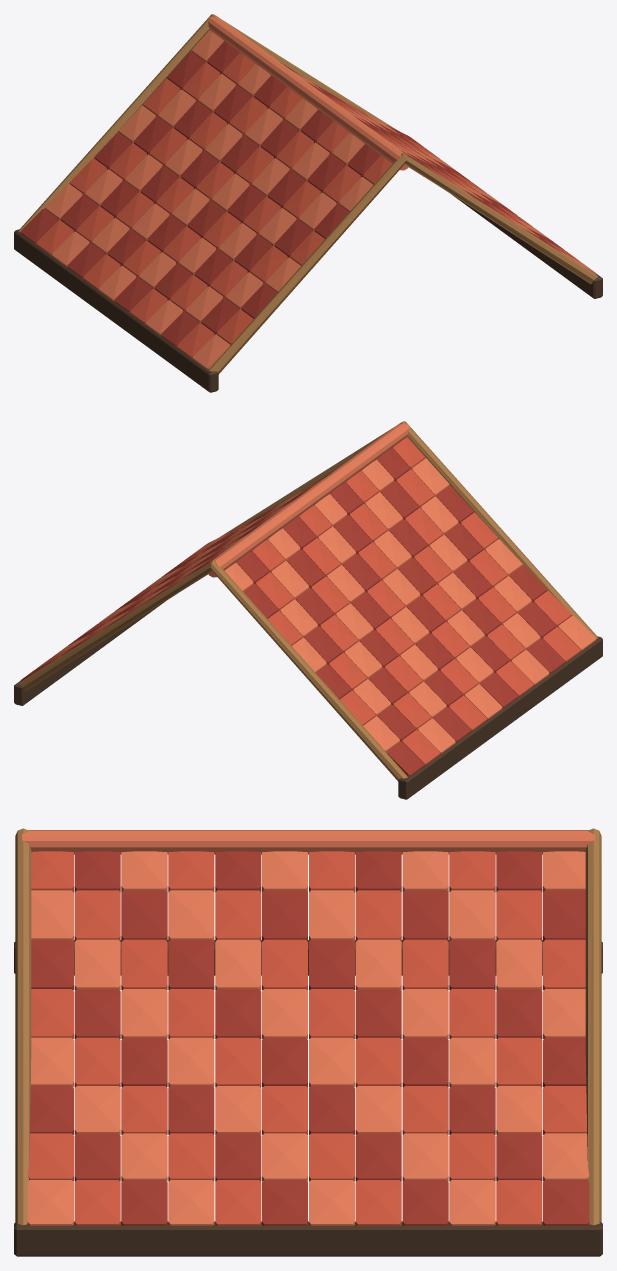
The model's file is CottageRoof.glb.
The picture shows the model from 3 angles, top to bottom: view 1: azimuth 30°, elevation 25°; view 2: azimuth 150°, elevation 25°; view 3: azimuth 270°, elevation 25°; orthographic projection. The views are drawn at different scales.
Parts seen in each view (by area): view 1: CottageRoof; view 2: CottageRoof; view 3: CottageRoof.
Boxes of the visible parts, bbox=[...] form: CottageRoof: bbox=[14, 14, 602, 392]; CottageRoof: bbox=[14, 421, 602, 799]; CottageRoof: bbox=[14, 828, 602, 1256].
Size of the model in its own units: 5.1 by 2.35 by 4.4.
